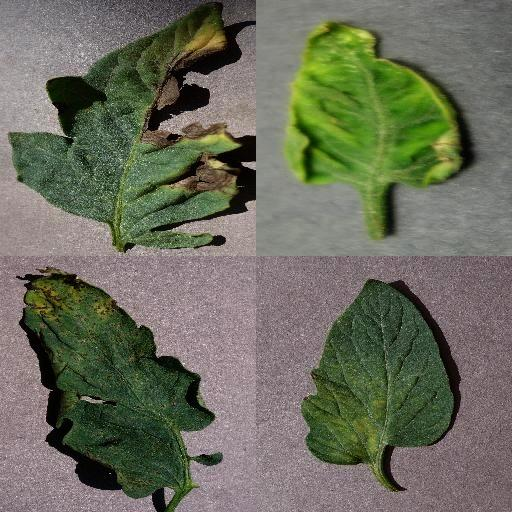Early Blight: (10, 4, 239, 250)
Septoria: (23, 266, 224, 498)
Spider Mites: (301, 279, 455, 465)
Yellow Leaf Curl Virus: (284, 22, 464, 190)
